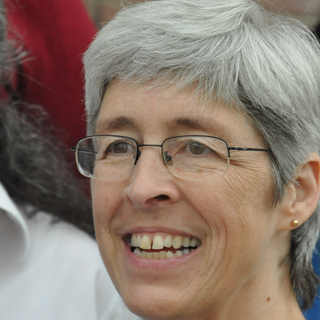eye: (176, 139, 221, 163), (101, 135, 140, 162)
